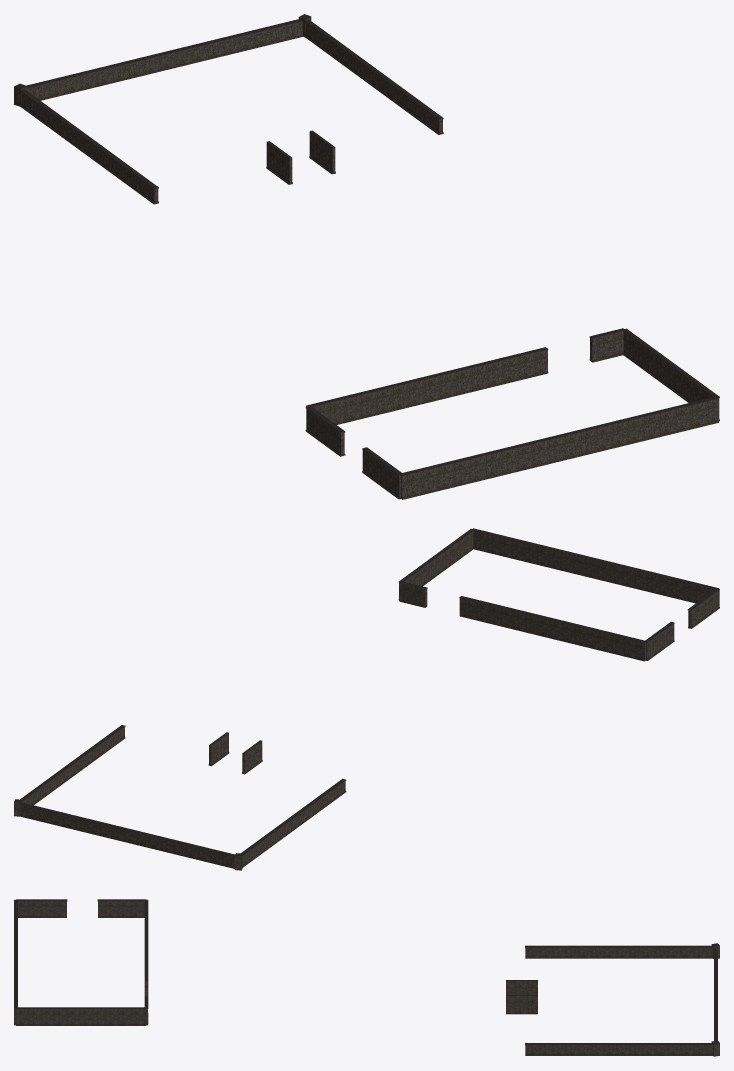
Rendered from dress_rock.glb.
The picture shows the model from 3 angles, top to bottom: view 1: azimuth 30°, elevation 25°; view 2: azimuth 150°, elevation 25°; view 3: azimuth 270°, elevation 25°; orthographic projection. The views are drawn at different scales.
Parts seen in each view (by area): view 1: dress_rock; view 2: dress_rock; view 3: dress_rock.
Boxes of the visible parts, x1,y1,x2,y2 form: dress_rock: (14, 14, 719, 499); dress_rock: (14, 528, 719, 870); dress_rock: (14, 899, 719, 1056).
Bounding box in the file's own units: 260 × 16 × 552.
Materials: 2 (2 with a texture image).
